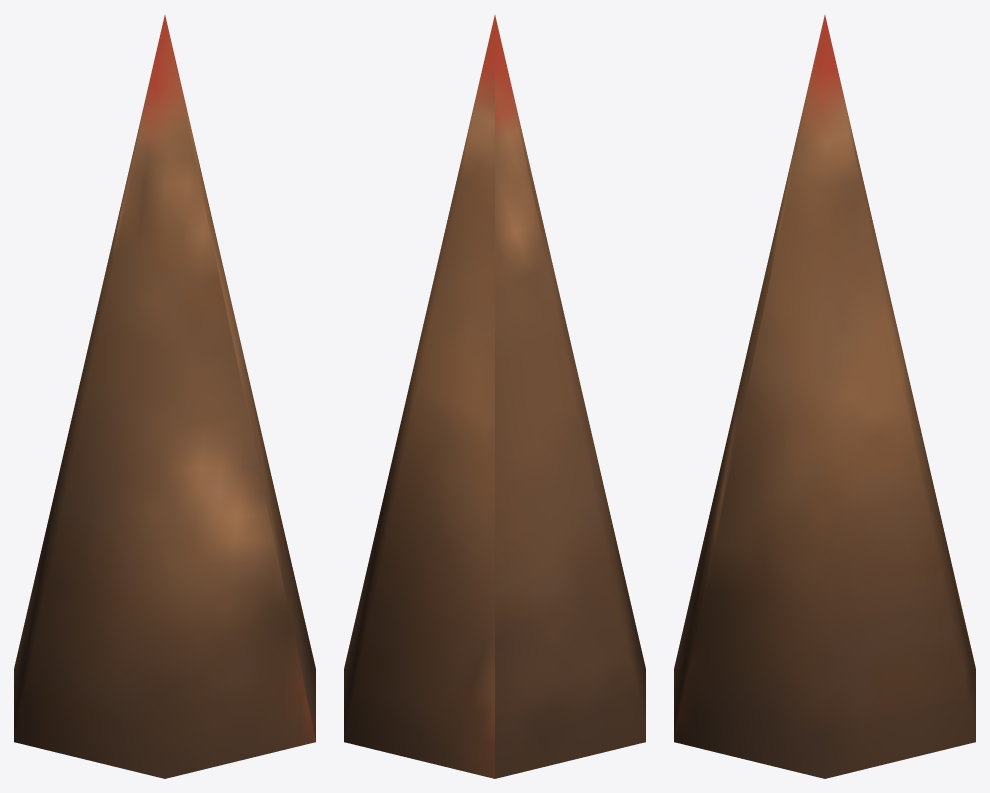
Rendered from sn_jiguan_shitai_003.FBX.
3 views of the same model, side by side, from view 1: azimuth 30°, elevation 25°; view 2: azimuth 150°, elevation 25°; view 3: azimuth 270°, elevation 25° (orthographic).
Visible parts, largest first — view 1: Sn_jiguan_shitai_003; view 2: Sn_jiguan_shitai_003; view 3: Sn_jiguan_shitai_003.
Boxes of the visible parts, x1,y1,x2,y2 form: Sn_jiguan_shitai_003: [14, 15, 315, 778]; Sn_jiguan_shitai_003: [344, 15, 645, 778]; Sn_jiguan_shitai_003: [674, 15, 975, 778].
Size of the model in its own units: 43.64 by 95.52 by 37.79.
